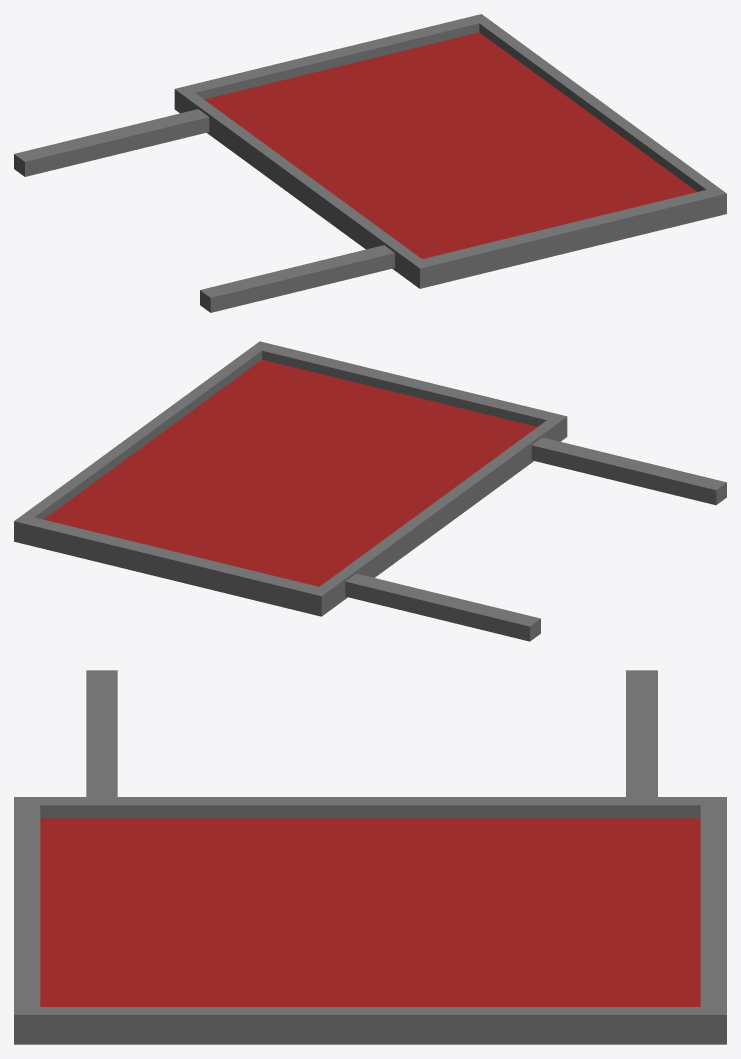
The model's file is Bannar 02.FBX.
The picture shows the model from 3 angles, top to bottom: view 1: azimuth 30°, elevation 25°; view 2: azimuth 150°, elevation 25°; view 3: azimuth 270°, elevation 25°; orthographic projection. The views are drawn at different scales.
Parts seen in each view (by area): view 1: Box001; view 2: Box001; view 3: Box001.
Boxes of the visible parts, bbox=[...] form: Box001: bbox=[14, 14, 726, 312]; Box001: bbox=[14, 341, 726, 641]; Box001: bbox=[14, 670, 726, 1044].
Size of the model in its own units: 92.01 by 3.66 by 79.58.
